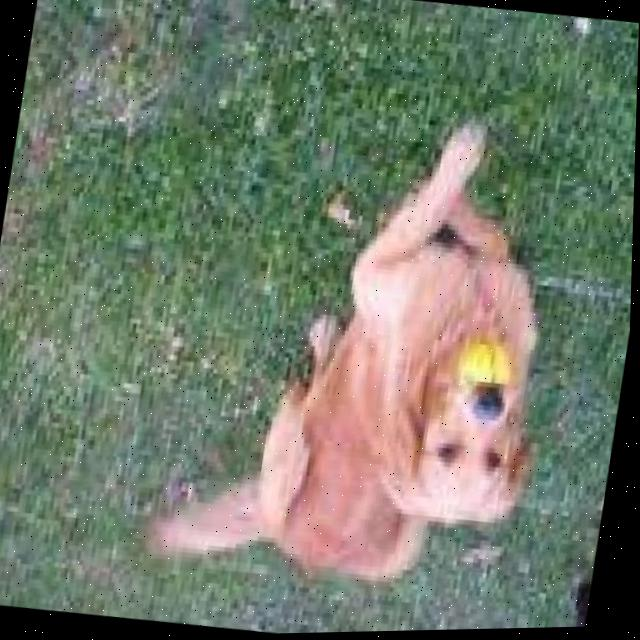dogs: (137, 72, 597, 637)
